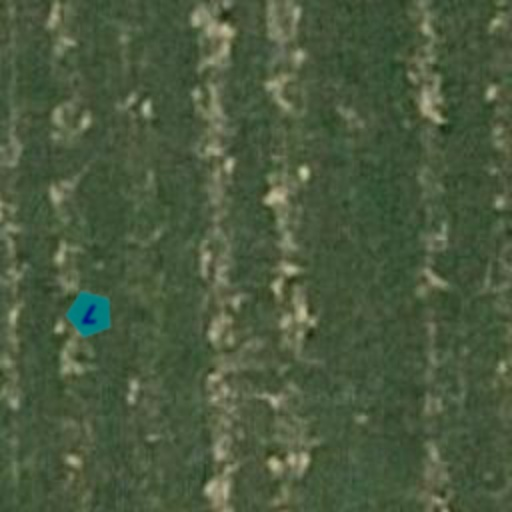pentagon: (64, 288, 116, 340)
